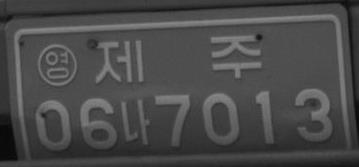0: (201, 92, 240, 146), (34, 99, 72, 151)
1: (248, 89, 286, 145)
3: (293, 87, 333, 143)
6: (79, 97, 118, 150)
7: (153, 93, 191, 148)
나: (120, 99, 150, 146)
영: (36, 42, 77, 86)
제주_D: (93, 33, 262, 84)
